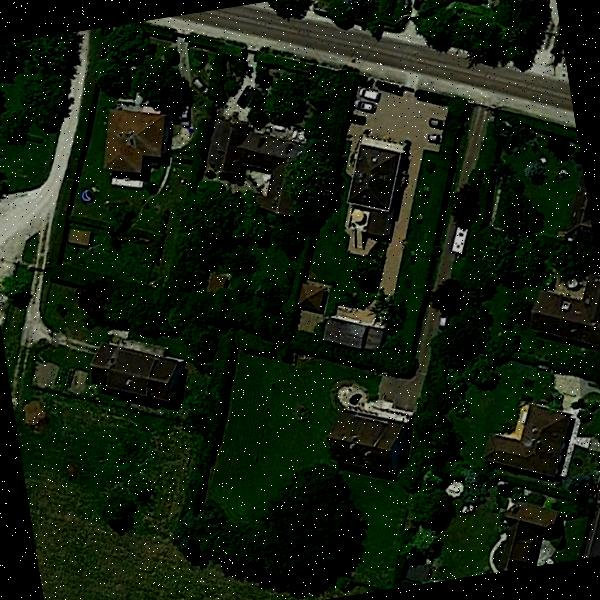Buildings: (336, 138, 420, 246), (81, 332, 184, 412), (324, 402, 416, 476), (96, 105, 171, 179), (483, 505, 558, 573), (529, 282, 600, 353), (500, 405, 567, 470), (246, 129, 292, 203), (323, 317, 384, 359), (288, 282, 332, 319), (210, 120, 243, 164), (409, 0, 483, 8)
